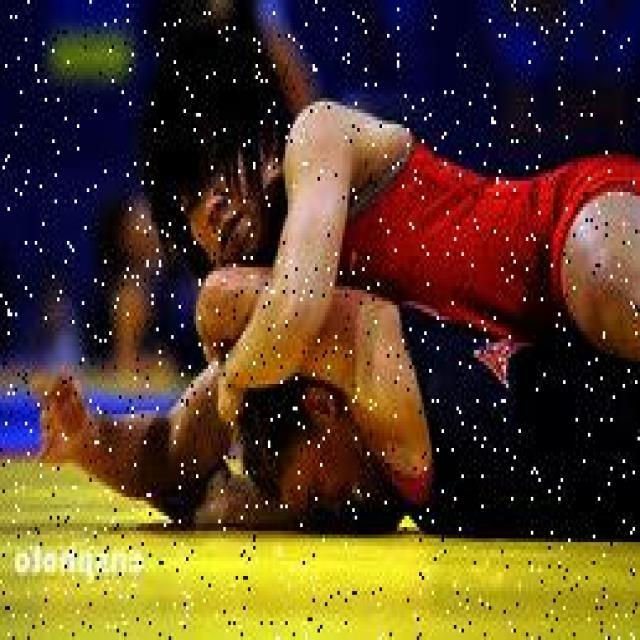fall: (137, 302, 638, 550)
